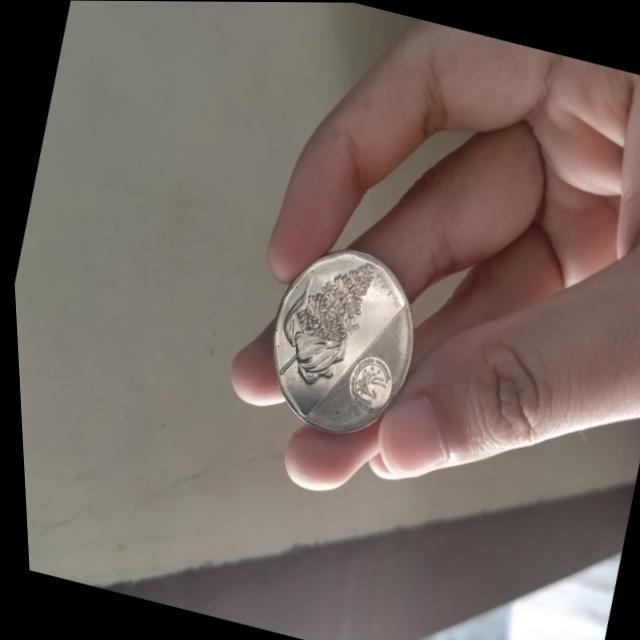10_New_Back: (256, 228, 393, 420)
